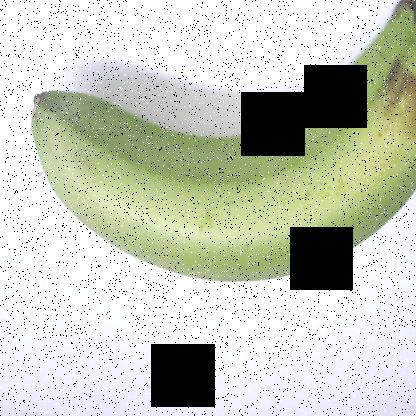freshunripe: (18, 0, 415, 302)
